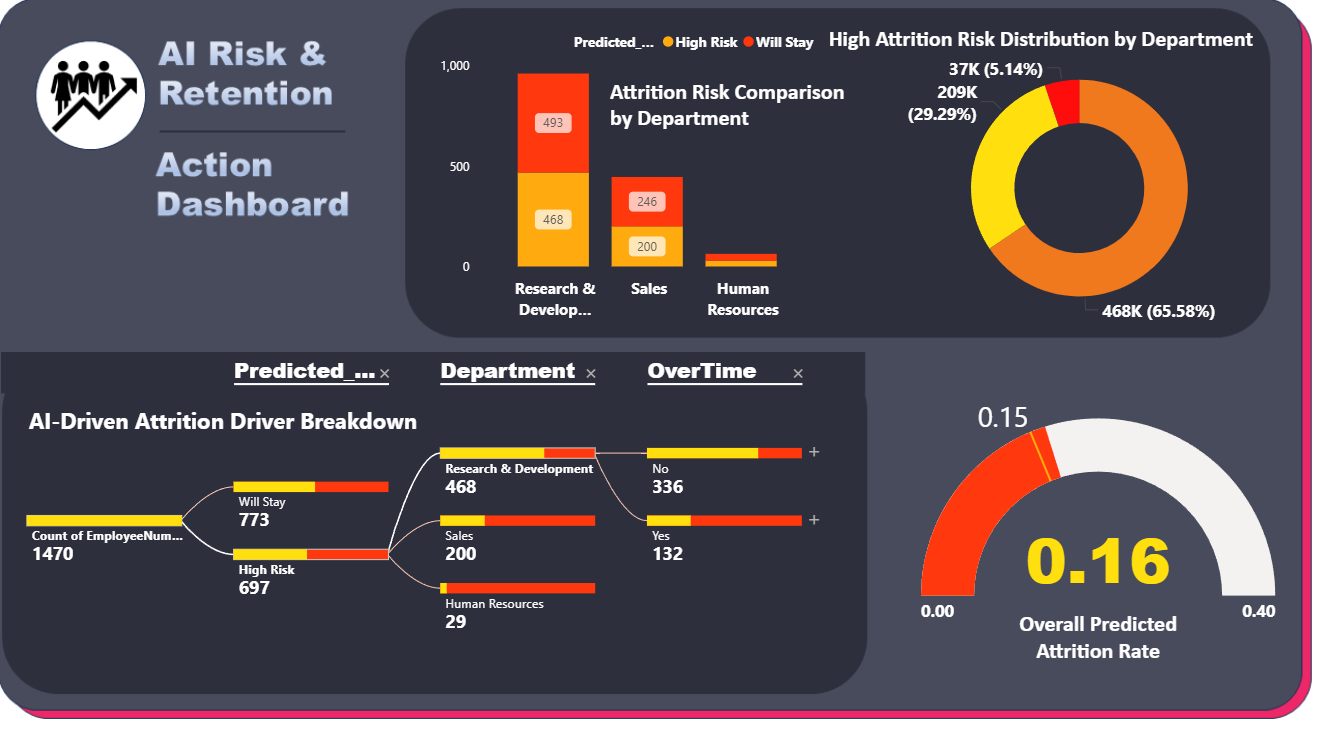

Layout of this report page (visuals, bound fields, positions):
{"tool":"powerbi","page":{"name":"Page 3","canvas":[1280,720],"ordinal":2},"visuals":[{"type":"gauge","fields":{"Y":["HR_Attrition_With_Predictions.Attrition Rate"],"TargetValue":["HR_Attrition_With_Predictions.Target Attrition"]},"box":[888.3,359.7,351.9,280.5],"z":0},{"type":"lineStackedColumnComboChart","fields":{"Category":["HR_Attrition_With_Predictions.Department"],"Y":["CountNonNull(HR_Attrition_With_Predictions.EmployeeNumber)"],"Series":["HR_Attrition_With_Predictions.Predicted_Status"]},"box":[423.4,27.3,375.3,296.1],"z":1000},{"type":"decompositionTreeVisual","fields":{"Analyze":["Count(HR_Attrition_With_Predictions.EmployeeNumber)"],"ExplainBy":["HR_Attrition_With_Predictions.Predicted_Status","HR_Attrition_With_Predictions.Department","HR_Attrition_With_Predictions.OverTime","HR_Attrition_With_Predictions.JobSatisfaction"]},"box":[0,342.9,844.2,314.3],"z":2000},{"type":"donutChart","fields":{"Category":["HR_Attrition_With_Predictions.Department"],"Y":["Sum(HR_Attrition_With_Predictions.EmployeeNumber)"]},"box":[870.1,27.3,351.9,323.4],"z":3000},{"type":"textbox","box":[798.7,27.3,423.4,36.4],"z":4000},{"type":"textbox","box":[587,77.9,257.1,97.4],"z":5000},{"type":"textbox","box":[26,393.5,423.4,50.6],"z":6000},{"type":"textbox","box":[958.4,592.2,211.7,96.1],"z":7000}]}

Visuals, with their boxes in screenshot pixels (x1, y1, x2, y2), scaled from the page's 1280x720 canvas onto the 1319x734 screenshot:
gauge - HR_Attrition_With_Predictions.Attrition Rate x HR_Attrition_With_Predictions.Target Attrition: rect(915, 367, 1278, 653)
lineStackedColumnComboChart - HR_Attrition_With_Predictions.Department x CountNonNull(HR_Attrition_With_Predictions.EmployeeNumber): rect(436, 28, 823, 330)
decompositionTreeVisual - Count(HR_Attrition_With_Predictions.EmployeeNumber) x HR_Attrition_With_Predictions.Predicted_Status: rect(0, 350, 870, 670)
donutChart - HR_Attrition_With_Predictions.Department x Sum(HR_Attrition_With_Predictions.EmployeeNumber): rect(897, 28, 1259, 358)
textbox: rect(823, 28, 1259, 65)
textbox: rect(605, 79, 870, 179)
textbox: rect(27, 401, 463, 453)
textbox: rect(988, 604, 1206, 702)
